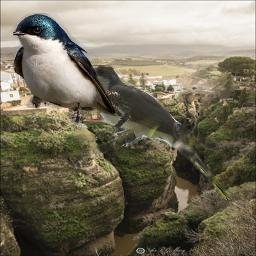Cuckoo: (73, 65, 230, 200)
Swallow: (13, 13, 118, 125)
